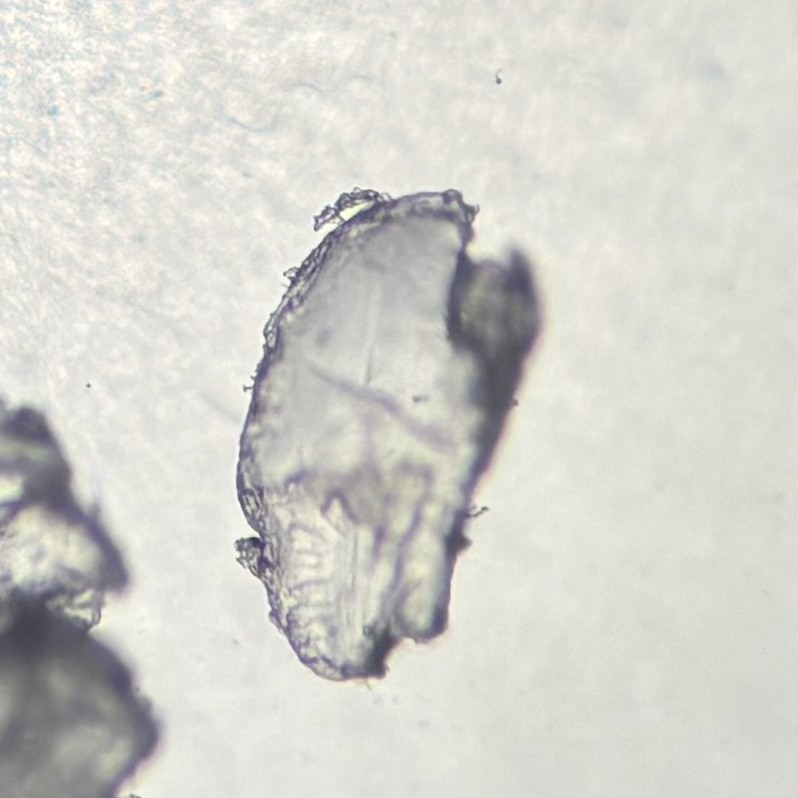microplastic: (232, 185, 544, 684), (1, 387, 167, 798)
